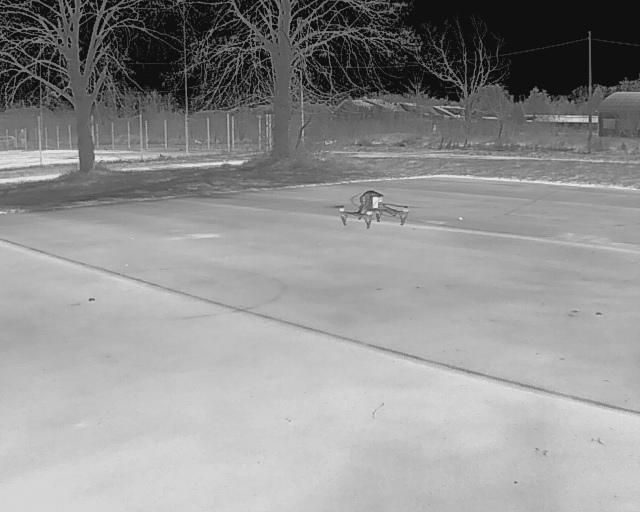drone: (320, 176, 424, 241)
